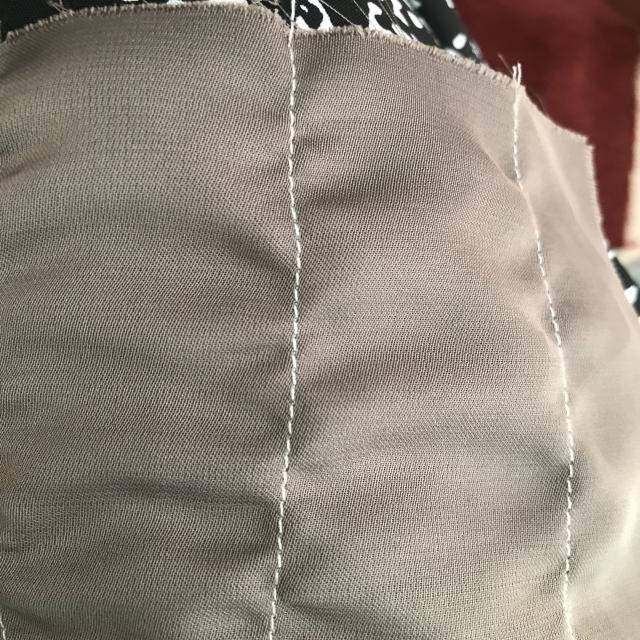good: (273, 74, 317, 205), (277, 294, 307, 442), (269, 468, 304, 582)
